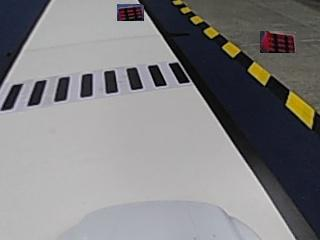crosswalk: (0, 61, 185, 111)
